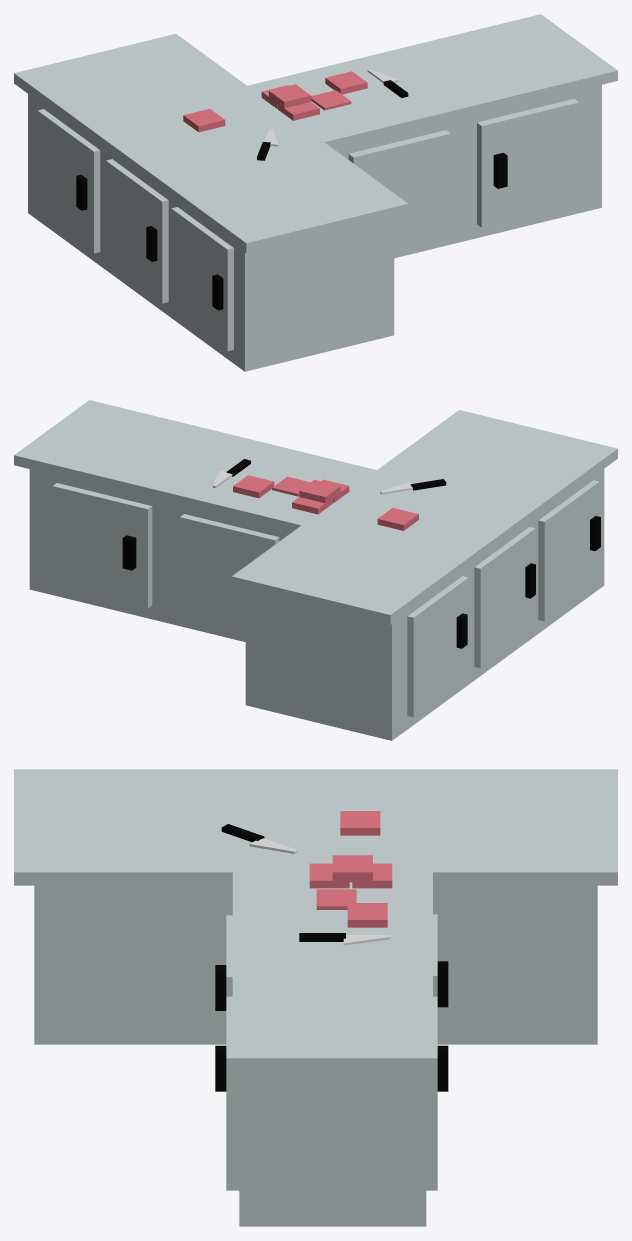
The model's file is Meat Table.fbx.
3 views of the same model, one above another, from view 1: azimuth 30°, elevation 25°; view 2: azimuth 150°, elevation 25°; view 3: azimuth 270°, elevation 25° (orthographic). The views are drawn at different scales.
Visible parts, largest first — view 1: table_base_butcher, pCube37, pCube34, pCube33, pCube32, pCube35; view 2: table_base_butcher, pCube37, pCube34, pCube33; view 3: table_base_butcher, pCube37, pCube33, pCube34, pCube32, manche_knife1, manche_knife2, pCube35, pCube36.
Part boxes in pixels (<box>): table_base_butcher: <box>14,14,617,371</box>; pCube37: <box>269,84,311,108</box>; pCube34: <box>183,108,225,132</box>; pCube33: <box>325,71,367,94</box>; pCube32: <box>311,90,351,110</box>; pCube35: <box>277,102,319,120</box>; table_base_butcher: <box>14,400,617,740</box>; pCube37: <box>299,480,340,504</box>; pCube34: <box>377,508,418,530</box>; pCube33: <box>233,475,274,498</box>; table_base_butcher: <box>14,769,617,1226</box>; pCube37: <box>332,855,372,882</box>; pCube33: <box>347,903,387,927</box>; pCube34: <box>340,811,380,835</box>; pCube32: <box>316,889,356,909</box>; manche_knife1: <box>299,933,390,945</box>; manche_knife2: <box>221,824,297,853</box>; pCube35: <box>309,863,349,888</box>; pCube36: <box>352,863,392,888</box>.
Size of the model in its own units: 3.35 by 1.03 by 2.93.
